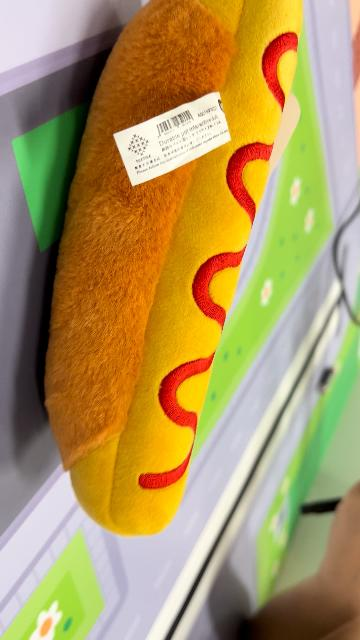hotdog: (42, 1, 304, 538)
